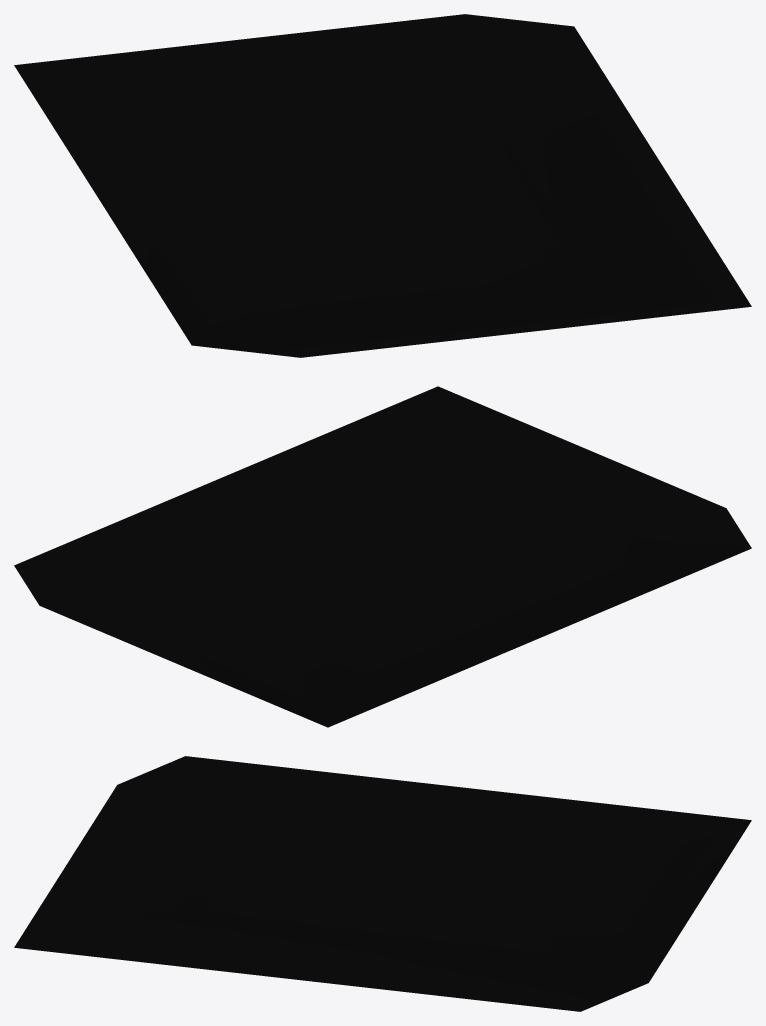
The picture shows the model from 3 angles, top to bottom: view 1: azimuth 30°, elevation 25°; view 2: azimuth 150°, elevation 25°; view 3: azimuth 270°, elevation 25°; orthographic projection. The views are drawn at different scales.
Visible parts, largest first — view 1: Joint_0_Object_0; view 2: Joint_0_Object_0; view 3: Joint_0_Object_0.
Part boxes in pixels (x1=…): Joint_0_Object_0: x1=14, y1=14, x2=751, y2=357; Joint_0_Object_0: x1=14, y1=386, x2=751, y2=727; Joint_0_Object_0: x1=14, y1=756, x2=751, y2=1011.
Bounding box in the file's own units: 888 × 1 × 1082.
1 material, 1 textured.
